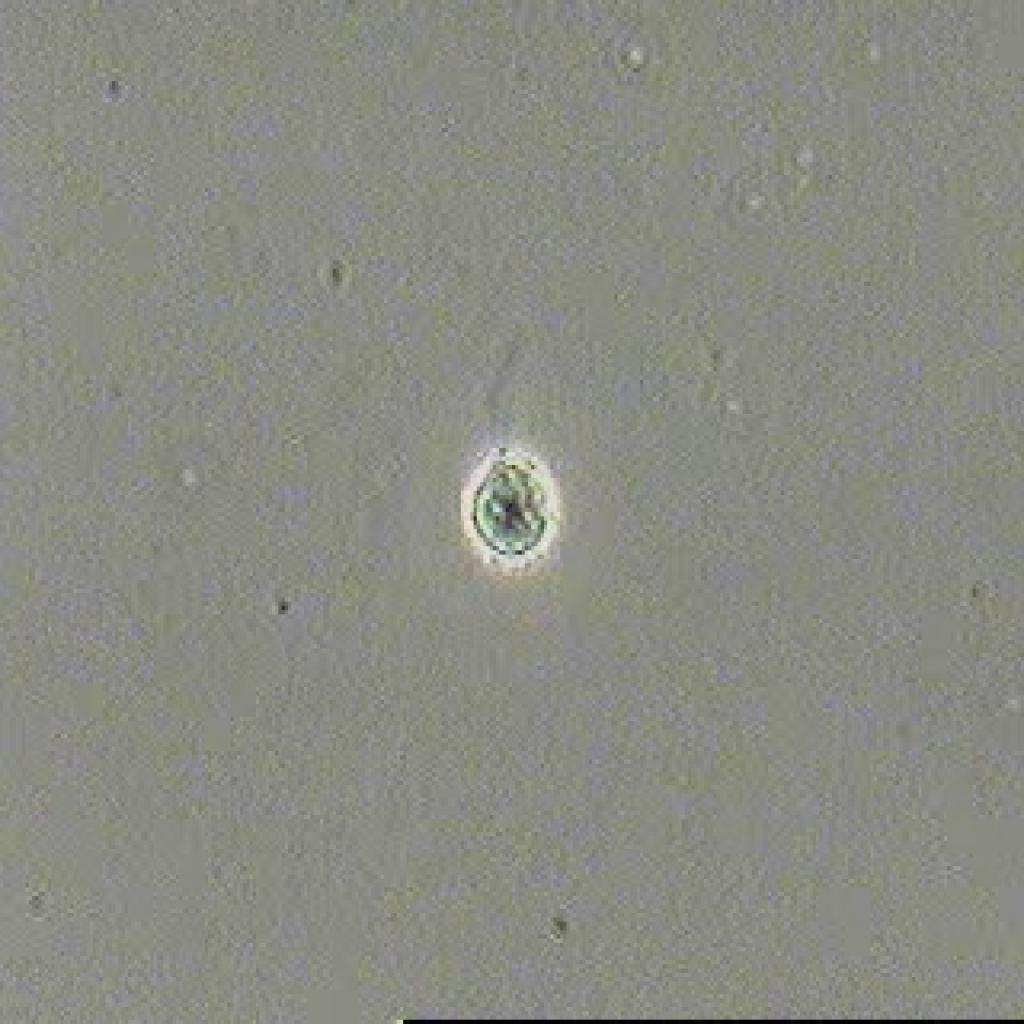Flagellates: (435, 313, 611, 574)
